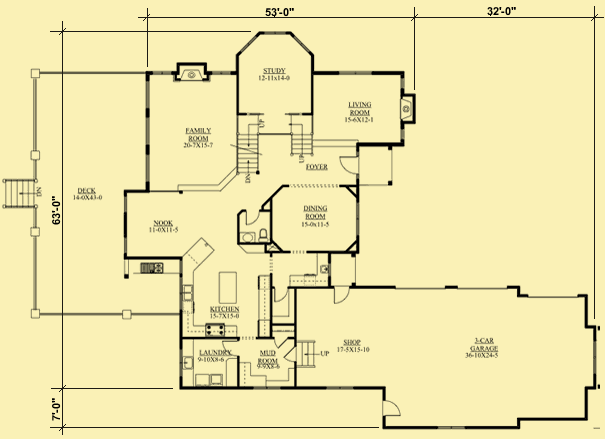laundry room has a washer and dryer: (176, 336, 246, 388)
there is a large garage: (378, 285, 599, 427)
these are stairs to the other floors: (233, 107, 318, 187)
this kitchen has a dining counter, cooking range: (179, 237, 274, 339)
this small bathroom has a small and large sink: (230, 208, 276, 247)
